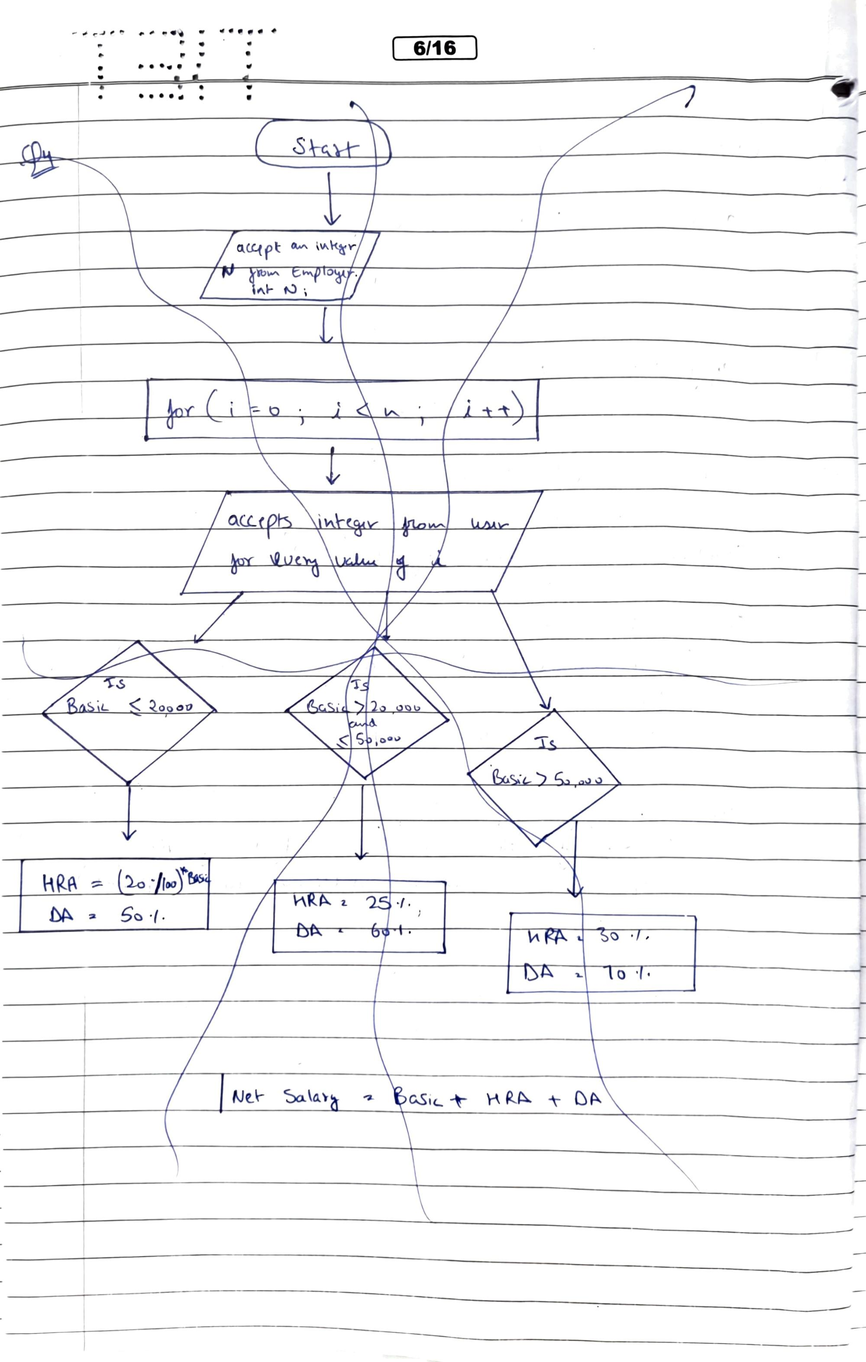cuttings: (15, 83, 813, 1223)
